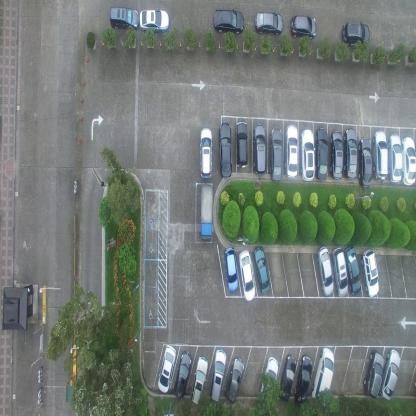car: (310, 346, 334, 400), (258, 354, 280, 405), (363, 350, 385, 398), (208, 347, 227, 402), (380, 348, 400, 400), (223, 356, 244, 404), (190, 354, 209, 405), (173, 349, 192, 400), (157, 342, 176, 393), (315, 243, 333, 295), (294, 354, 312, 406), (278, 352, 297, 401), (284, 122, 300, 180), (361, 247, 378, 297), (252, 244, 270, 291), (199, 184, 214, 240), (212, 7, 244, 33), (238, 248, 254, 300), (331, 245, 347, 297), (218, 122, 232, 180), (251, 123, 266, 177), (343, 126, 358, 180), (372, 130, 388, 180), (344, 244, 360, 294), (198, 127, 213, 180), (342, 20, 370, 48), (254, 9, 284, 35), (357, 135, 372, 186), (315, 124, 328, 182), (109, 5, 139, 30), (300, 128, 314, 181), (222, 245, 238, 291), (290, 13, 317, 40), (139, 7, 170, 30), (400, 135, 414, 185), (270, 126, 282, 183), (330, 129, 343, 180), (388, 134, 401, 183), (235, 120, 247, 171)
